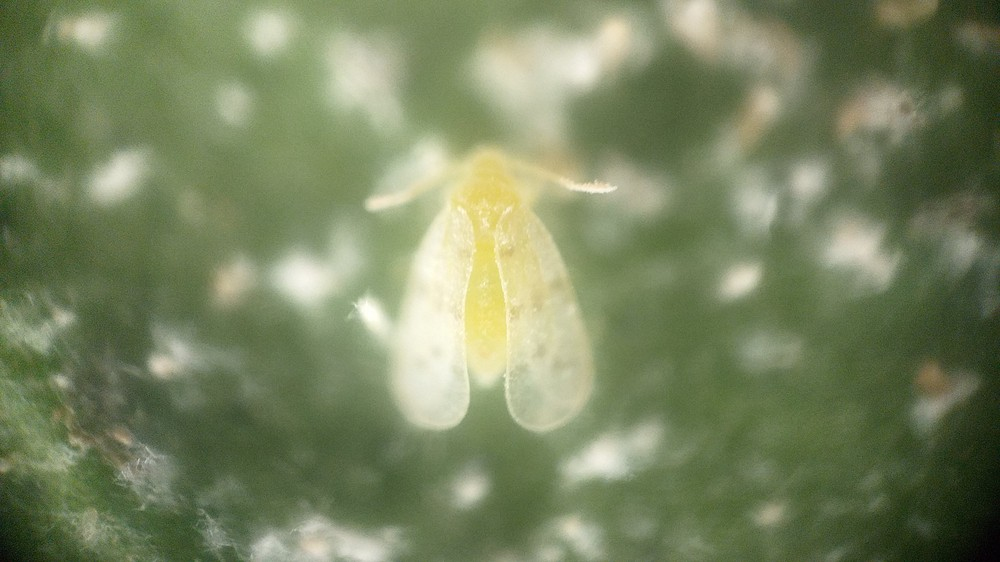Mosca Blanca: (347, 133, 639, 443)
